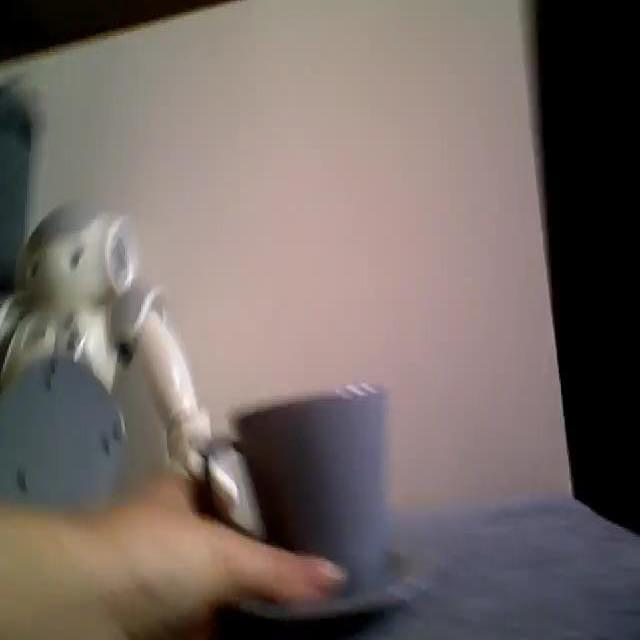cup: (199, 382, 444, 631)
